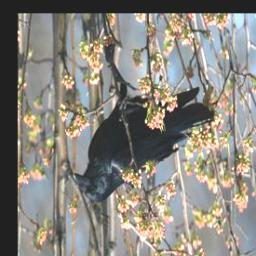Crow: (67, 47, 211, 208)
